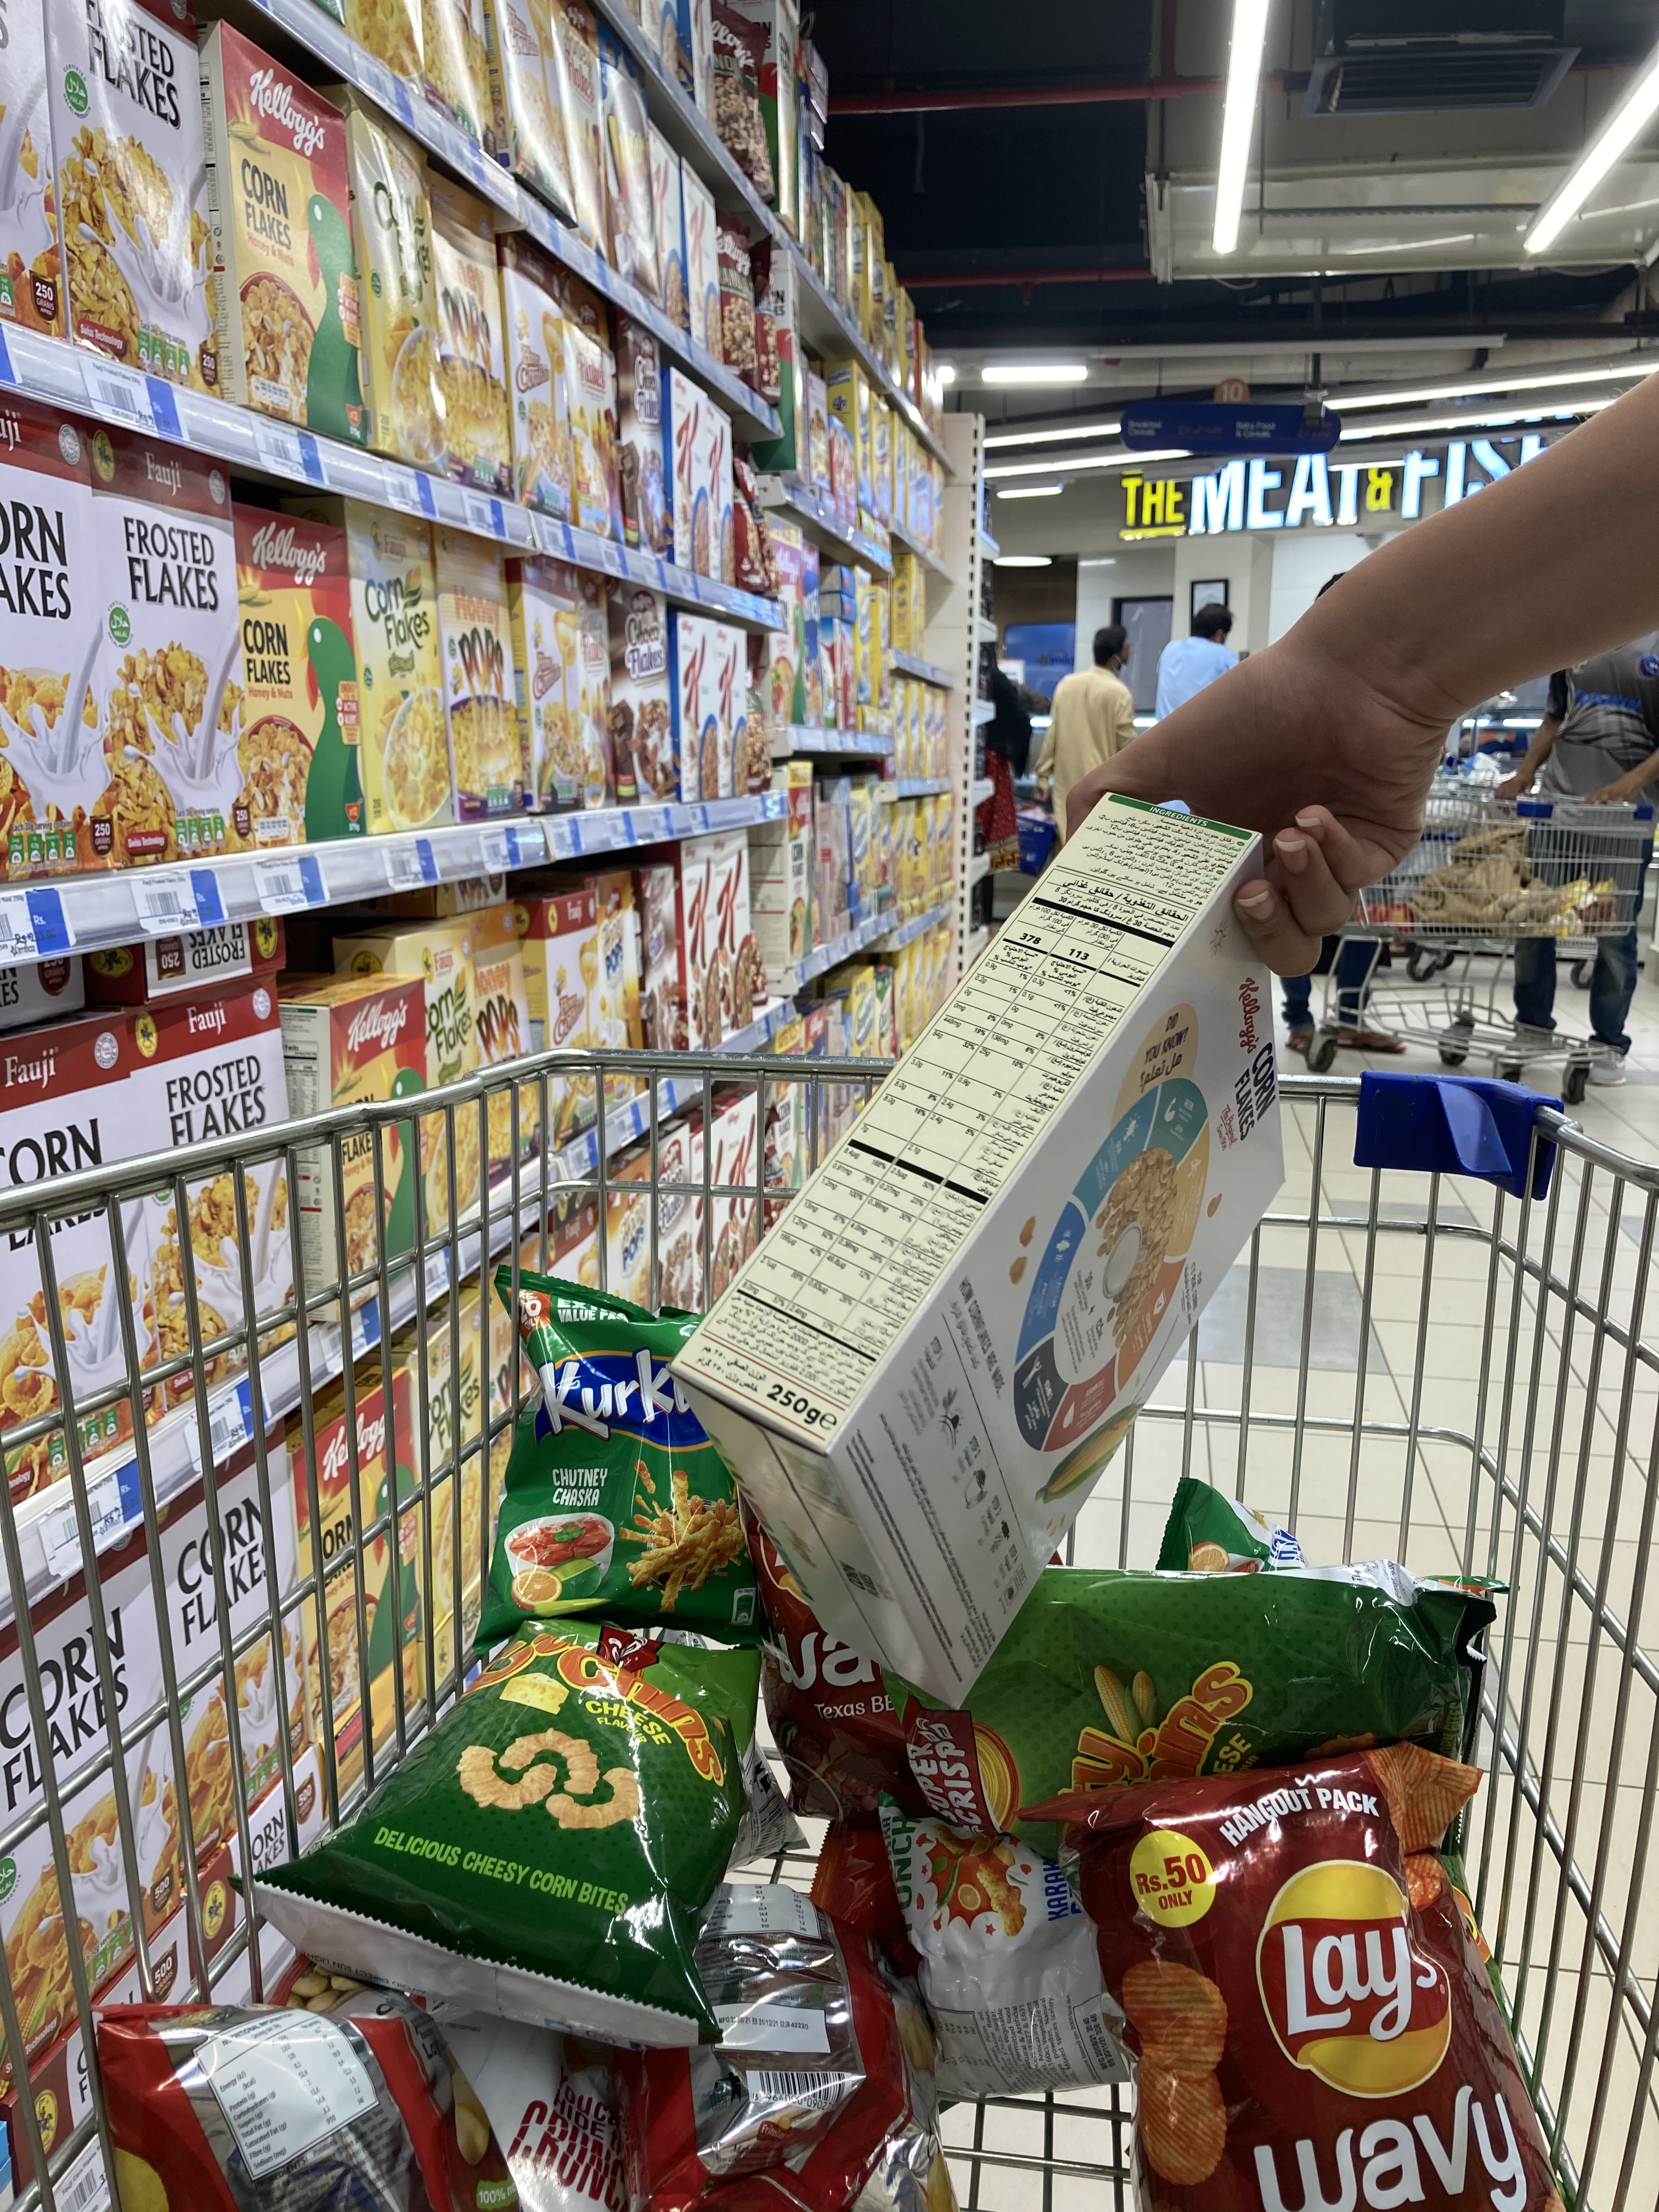Kellogg's Corn Flakes: (676, 805, 1295, 1702)
